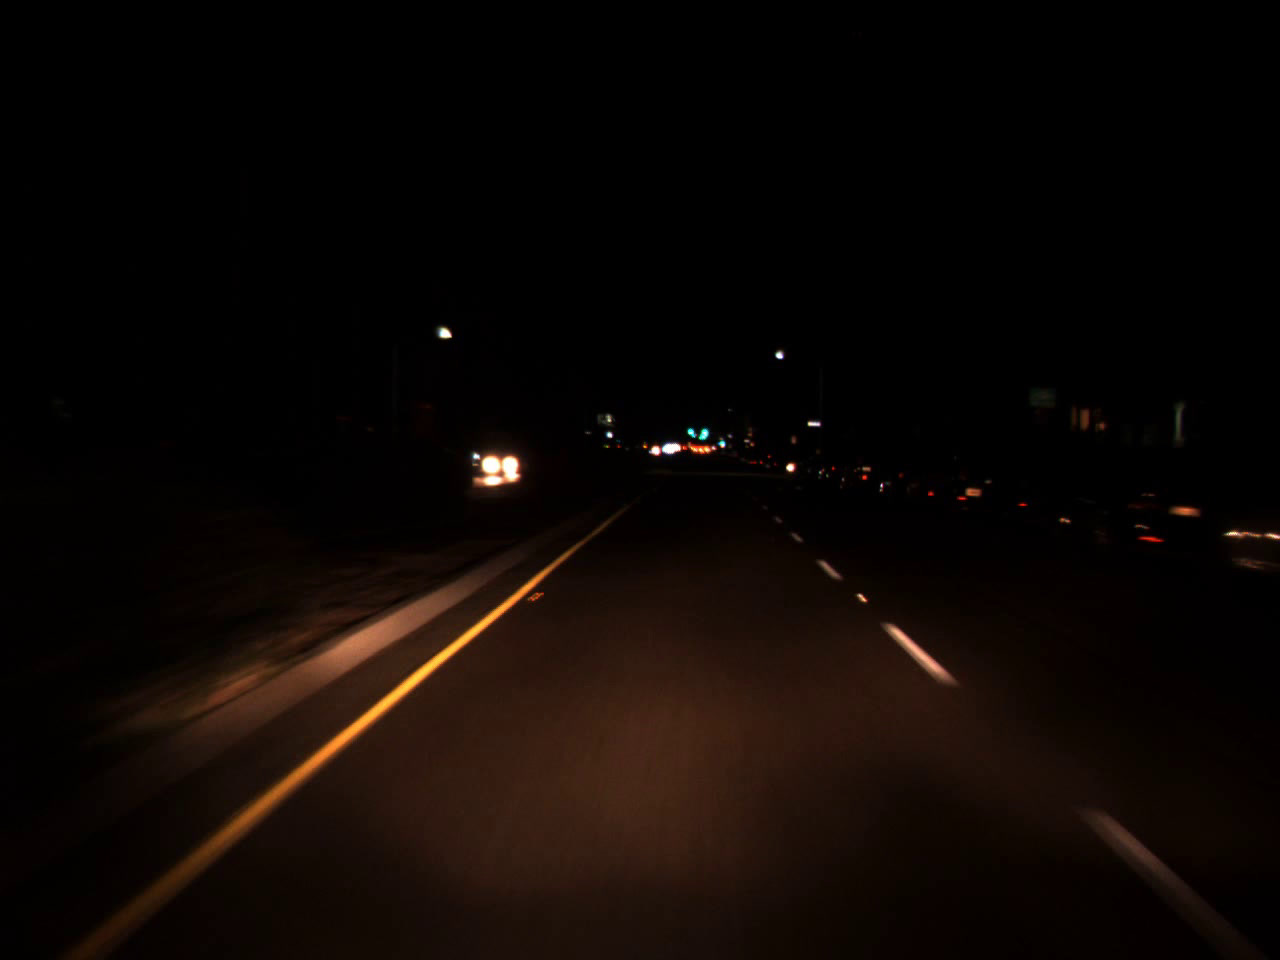go: (696, 414, 712, 441), (684, 417, 696, 441), (717, 434, 726, 446)
